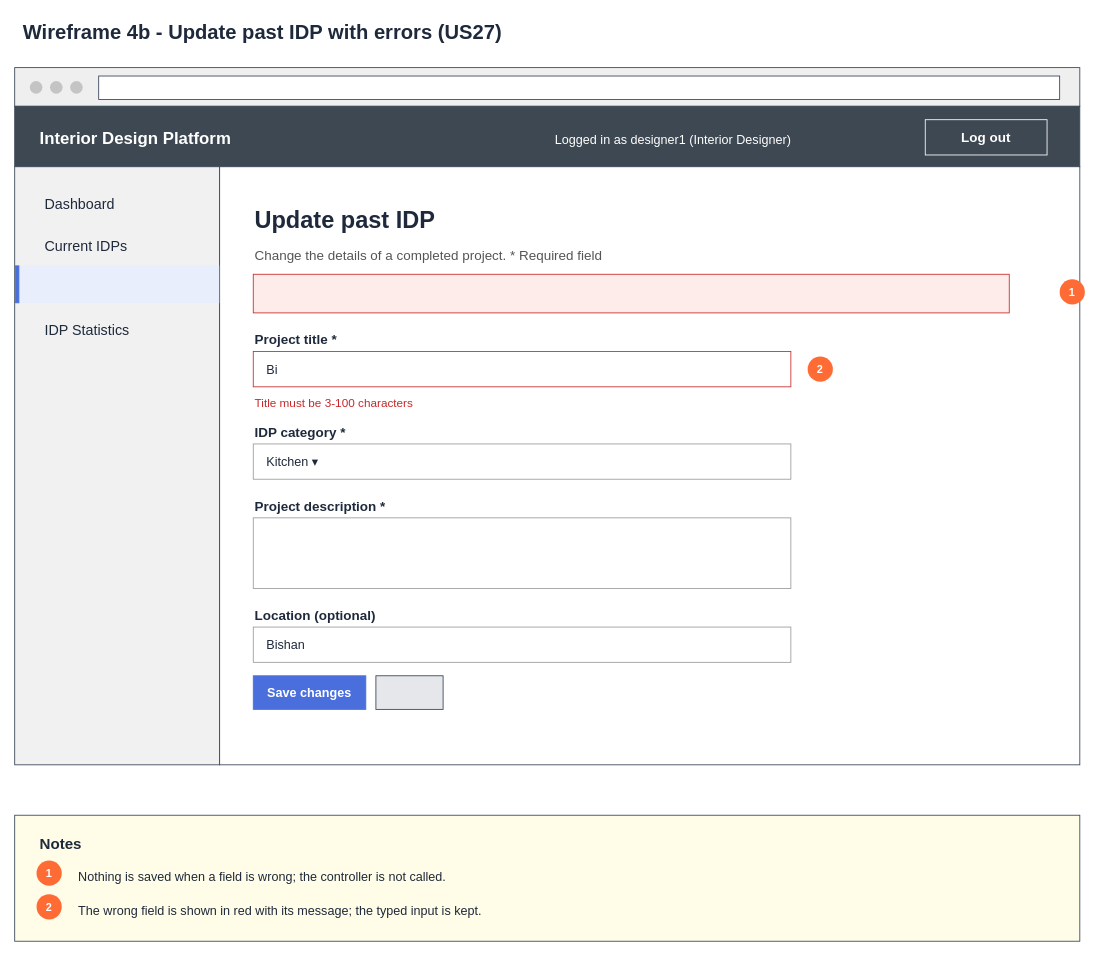
Image size: 1100x956. Some labels were removed from this diagram. The shapes that lost their labels are listed below. From the top down, each one's box as (x1, y1, x2, y2) in pixels, then its label:
(98, 75, 1060, 100): localhost:5000/designer/past-idps/2/edit
(15, 265, 219, 303): Past IDPs
(252, 273, 1009, 313): Please fill in all required fields
(252, 517, 791, 588): Full kitchen remodel with quartz island and new lighting.
(375, 675, 443, 709): Cancel
